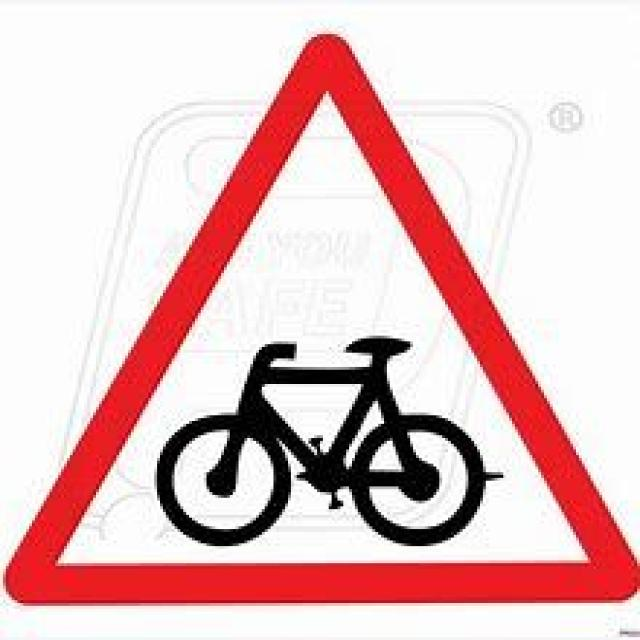CYCLE_CROSSING: (0, 29, 640, 611)
